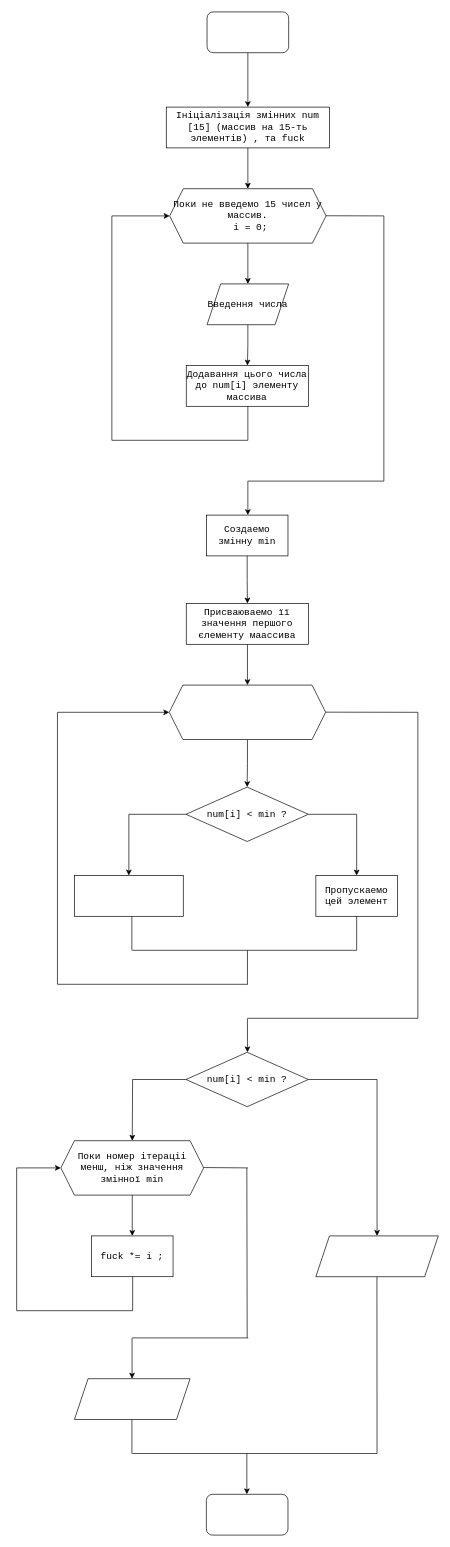
Some shapes in this 450 by 1547 pixel diagram are drawn without their labels. The shapes that lost their labels are listed below. From the top down, each one's centre as x and y in pixels, then its label:
the point at 247,32: Початок работи програми
the point at 247,712: Проходимо по кожному элементу массива num.;
the point at 128,895: присваюваемо значення элементу, змінної min
the point at 376,1256: Виводимо, що від'емний факторіал не вичислюется
the point at 132,1399: Виводимо значення факторіалу ( fuck)
the point at 247,1514: Кінець работи програми
